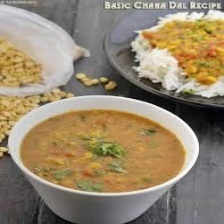sabzi: (19, 108, 186, 194)
